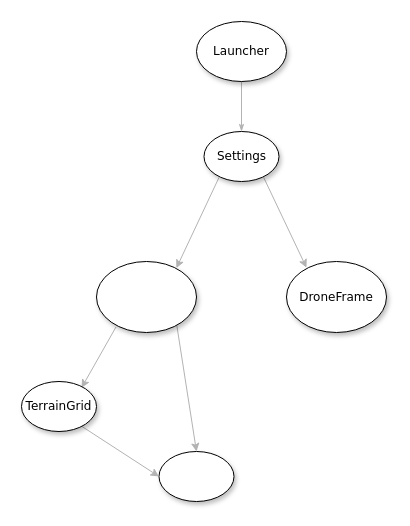
The diagram is 410 pixels wide and 526 high, and some of its shapes have lost their labels. The shapes that lost their labels are listed below. From the top down, each one's centre as x and y in pixels, then its label:
the point at 147,298: TerrainFrame
the point at 197,477: TerrainPoint
